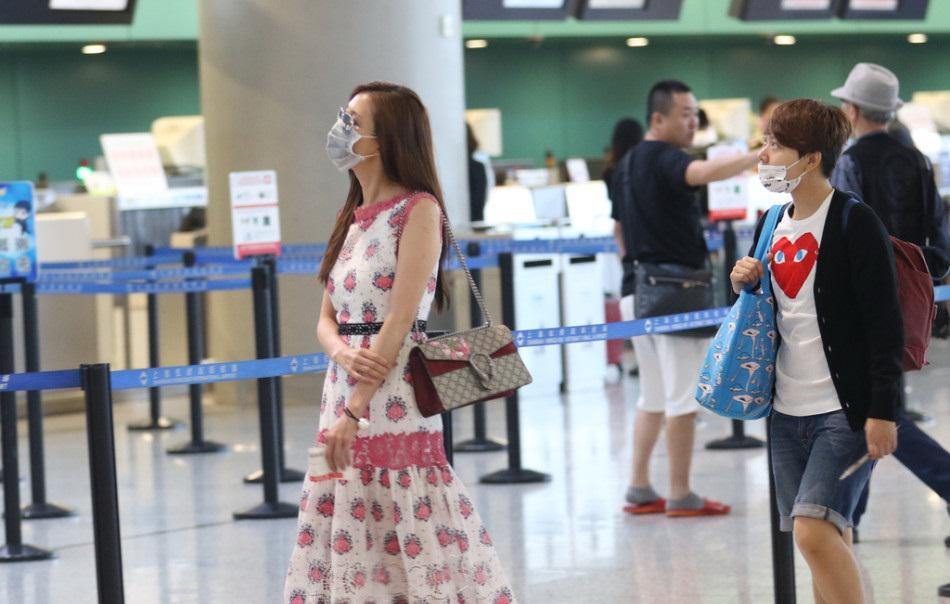NONE: (663, 104, 704, 148)
OK: (328, 108, 379, 171)
WRONG: (757, 125, 817, 194)
